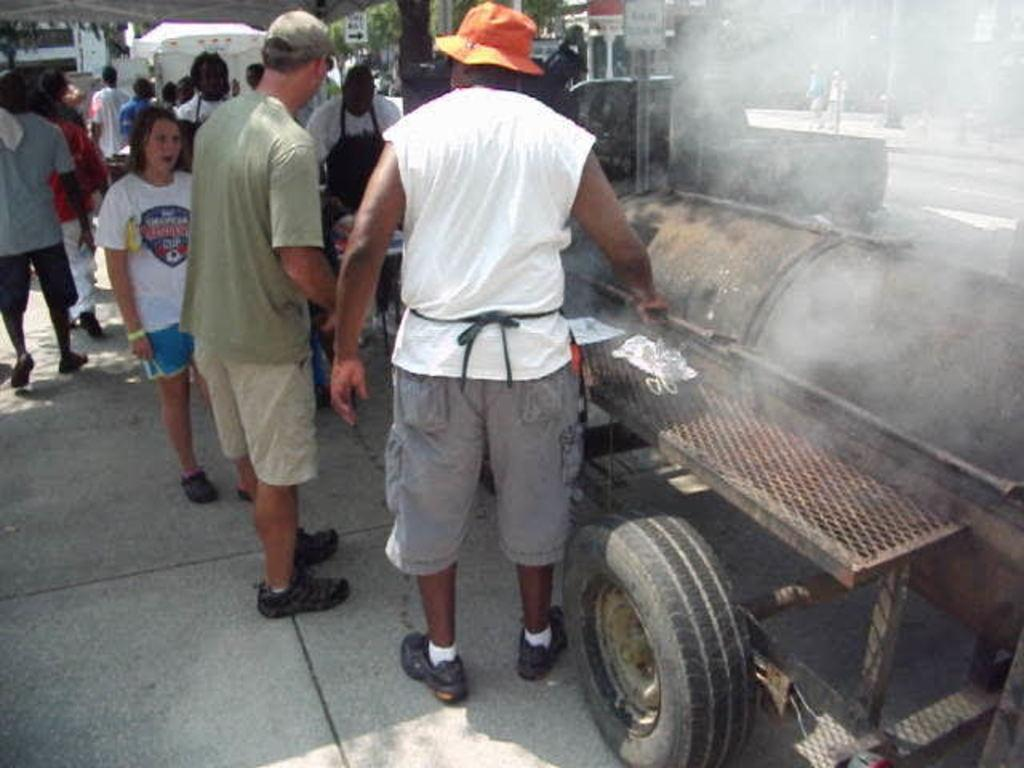Hat: (433, 0, 548, 73), (260, 10, 334, 64)
